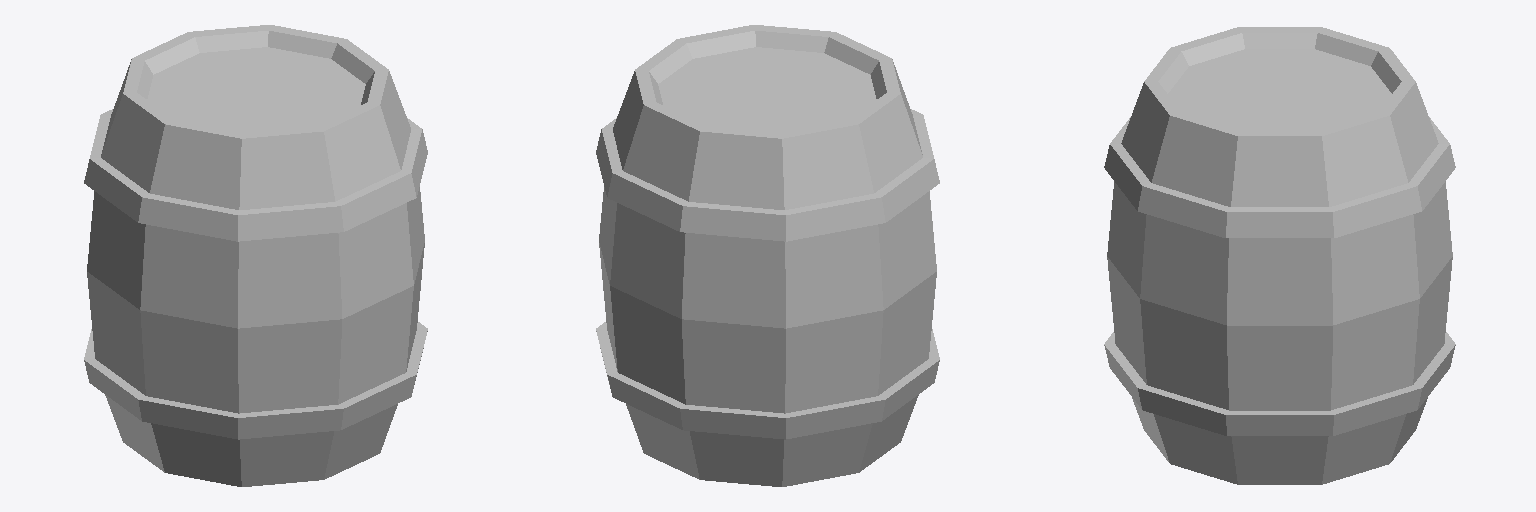
File: barril_1.obj
3 renders of one model, left to right at view 1: azimuth 30°, elevation 25°; view 2: azimuth 150°, elevation 25°; view 3: azimuth 270°, elevation 25°, orthographic.
Parts seen in each view (by area): view 1: Barril_Cylinder.043; view 2: Barril_Cylinder.043; view 3: Barril_Cylinder.043.
Part boxes in pixels (x1,y1,x2,y2): Barril_Cylinder.043: (84, 25, 427, 486); Barril_Cylinder.043: (596, 25, 939, 486); Barril_Cylinder.043: (1104, 27, 1455, 484).
Size of the model in its own units: 0.8704 by 1 by 0.9152.